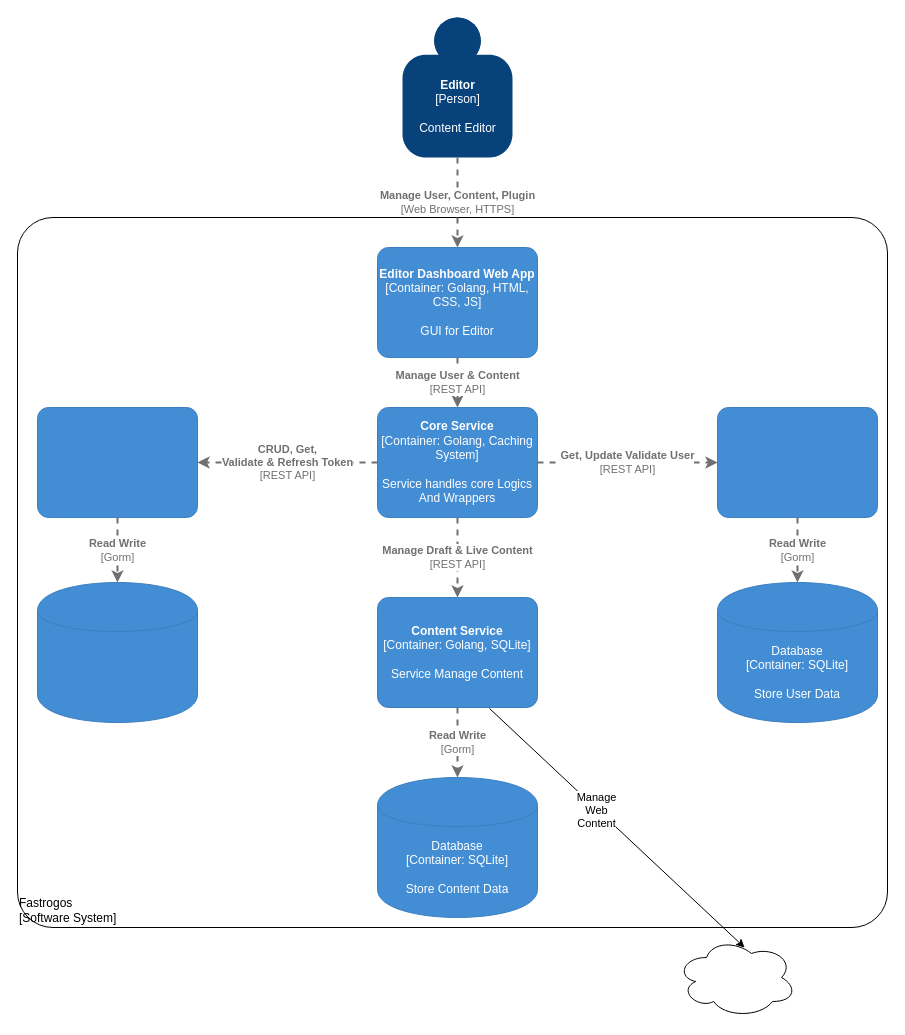
Image size: 905x1035. Some labels were removed from this diagram. The centre of each missing label's shape, as x and y in pixels:
Database [Container: SQLite] Store Token Data: (117,652)
Token Service [Container: Golang] Service Manage Token Domain: (117,462)
User Service [Container: Golang] Service Manage User Domain: (797,462)
Website/Blog: (736,977)
